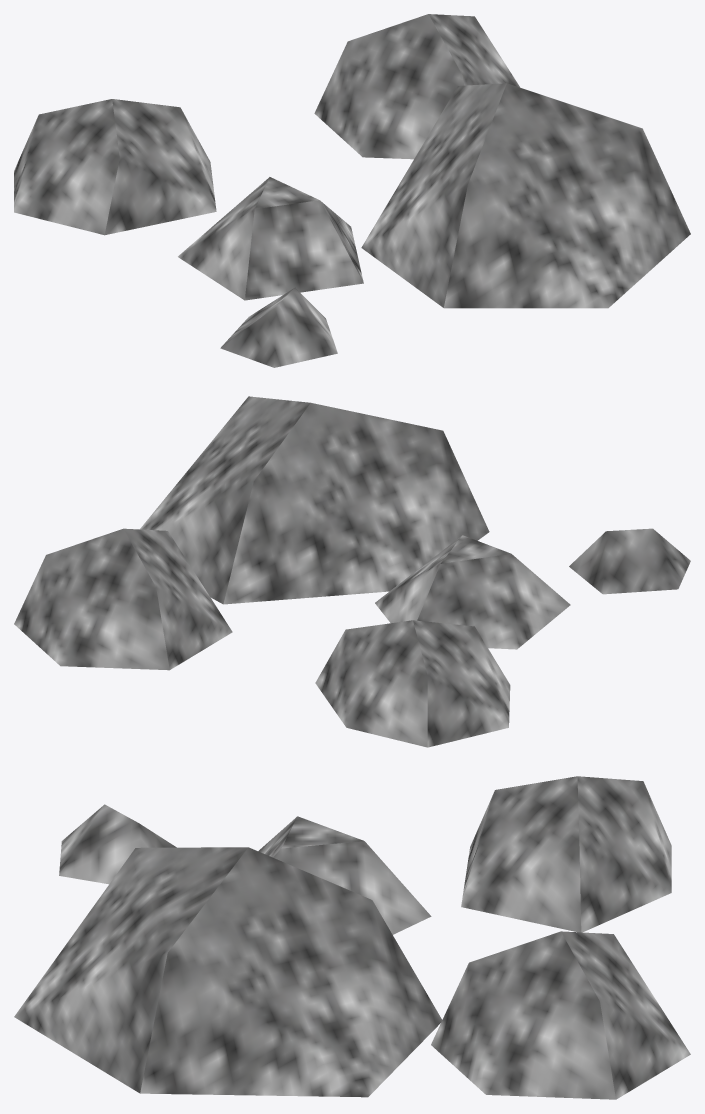
Rendered from rock_jclump1.glb.
The picture shows the model from 3 angles, top to bottom: view 1: azimuth 30°, elevation 25°; view 2: azimuth 150°, elevation 25°; view 3: azimuth 270°, elevation 25°; orthographic projection. The views are drawn at different scales.
Visible parts, largest first — view 1: Rock_JClump1; view 2: Rock_JClump1; view 3: Rock_JClump1.
Part boxes in pixels (<box>): Rock_JClump1: <box>14,14,690,367</box>; Rock_JClump1: <box>14,396,690,747</box>; Rock_JClump1: <box>14,776,690,1099</box>.
Bounding box in the file's own units: 16.01 × 4.59 × 16.53.
1 material, 1 textured.
